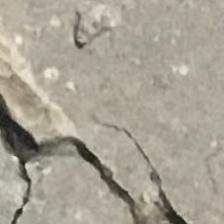Crack: (0, 37, 221, 224)
